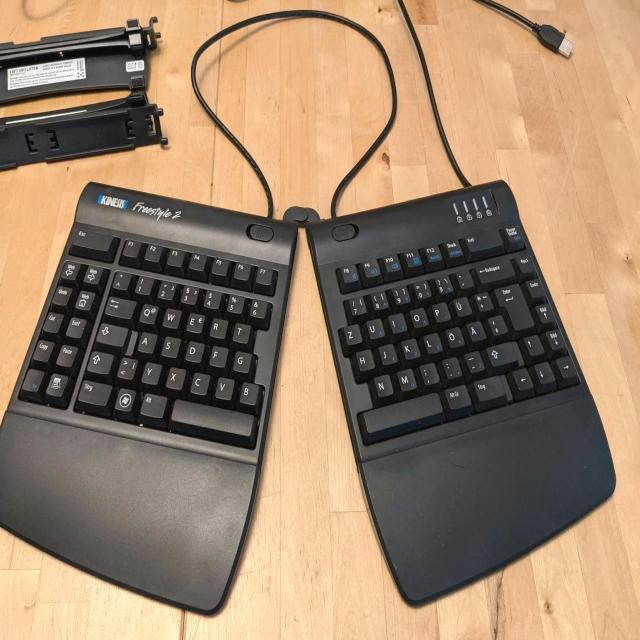0: (410, 277, 432, 300)
1: (132, 273, 153, 294)
2: (156, 278, 176, 298)
3: (179, 283, 199, 303)
4: (202, 287, 221, 307)
5: (225, 292, 244, 312)
6: (250, 298, 269, 318)
7: (344, 293, 368, 315)
8: (369, 288, 389, 310)
9: (390, 283, 411, 305)
a: (136, 329, 156, 352)
accent: (452, 265, 474, 289)
ae: (463, 318, 486, 341)
alt-left: (138, 391, 167, 417)
altgr-right: (441, 382, 471, 409)
b: (240, 380, 261, 405)
c: (188, 369, 209, 393)
caret: (111, 269, 131, 290)
comma: (417, 360, 439, 385)
d: (183, 339, 203, 362)
del: (472, 254, 515, 283)
e: (185, 311, 205, 332)
enter: (493, 281, 533, 330)
f: (208, 344, 227, 367)
g: (231, 349, 251, 372)
h: (353, 347, 375, 371)
hash: (485, 312, 507, 334)
i: (387, 310, 407, 332)
j: (377, 341, 397, 363)
k: (399, 336, 420, 359)
keyboard: (16, 234, 275, 457), (332, 233, 583, 454)
l: (421, 330, 442, 353)
less: (115, 355, 137, 379)
m: (395, 366, 417, 390)
minus: (462, 348, 484, 372)
n: (372, 371, 394, 396)
o: (408, 305, 428, 327)
oe: (442, 324, 465, 348)
p: (428, 299, 450, 322)
plus: (472, 289, 493, 311)
point: (439, 354, 462, 378)
q: (138, 301, 158, 322)
r: (208, 315, 227, 337)
s: (159, 334, 179, 357)
shift-left: (84, 349, 113, 373)
shift-lock: (94, 321, 129, 346)
shift-right: (483, 339, 520, 366)
space: (358, 390, 443, 436), (168, 397, 255, 438)
ss: (432, 272, 454, 295)
strg-left: (74, 378, 112, 405)
strg-right: (469, 372, 509, 403)
t: (231, 320, 250, 342)
tab: (102, 294, 135, 317)
u: (364, 316, 384, 339)
ue: (448, 294, 472, 316)
v: (213, 375, 234, 399)
w: (161, 306, 180, 326)
x: (164, 365, 185, 388)
y: (140, 359, 160, 383)
z: (339, 322, 362, 343)
